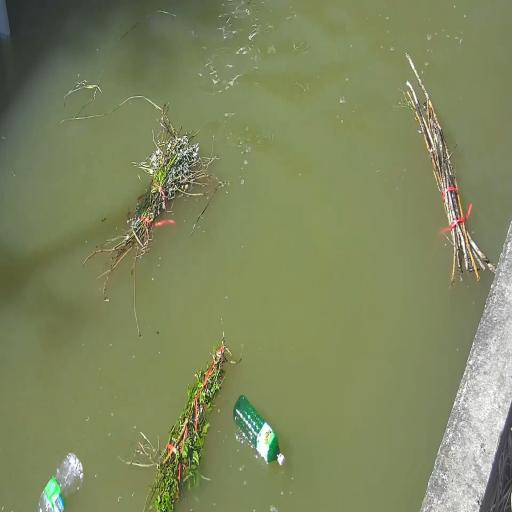plastic: (234, 398, 288, 474), (37, 438, 91, 512)
twig: (398, 59, 493, 279), (142, 329, 228, 512), (107, 134, 211, 264)
